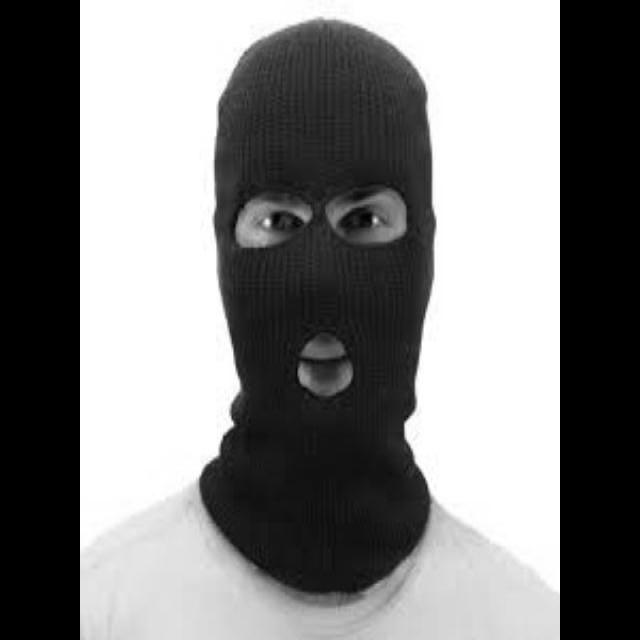6_pasamontana: (200, 17, 438, 594)
